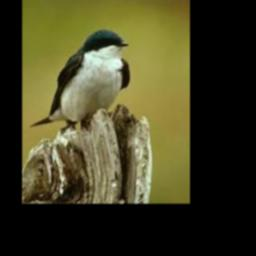Swallow: (31, 29, 130, 128)
